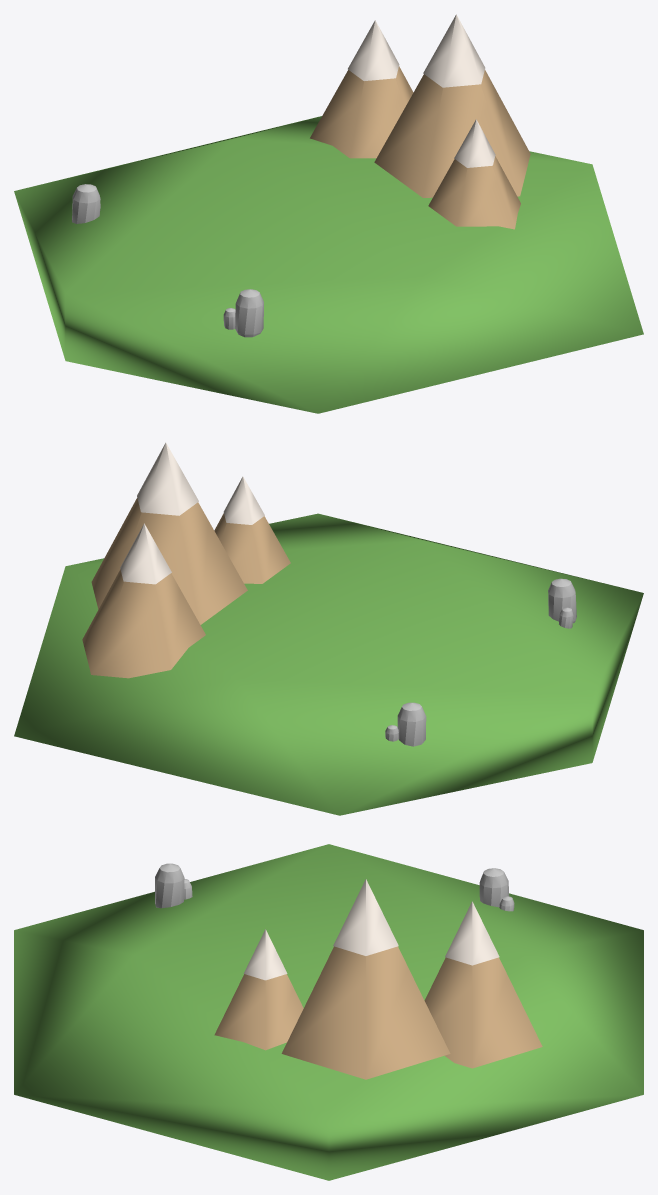
The model's file is low-poly_terrain.glb.
The picture shows the model from 3 angles, top to bottom: view 1: azimuth 30°, elevation 25°; view 2: azimuth 150°, elevation 25°; view 3: azimuth 270°, elevation 25°; orthographic projection. The views are drawn at different scales.
Parts seen in each view (by area): view 1: Object_8, Object_4, Object_7, Object_6, Object_3, Object_2, Object_10, Object_5, Object_9; view 2: Object_8, Object_7, Object_4, Object_6, Object_3, Object_2, Object_9, Object_10, Object_5; view 3: Object_8, Object_4, Object_7, Object_6, Object_3, Object_2, Object_10, Object_5, Object_9.
Part boxes in pixels (bbox=[...]): Object_8: bbox=[14, 116, 643, 413]; Object_4: bbox=[374, 70, 530, 197]; Object_7: bbox=[310, 66, 413, 158]; Object_6: bbox=[428, 156, 520, 229]; Object_3: bbox=[423, 14, 485, 87]; Object_2: bbox=[348, 20, 399, 80]; Object_10: bbox=[223, 289, 263, 337]; Object_5: bbox=[454, 119, 495, 167]; Object_9: bbox=[72, 184, 100, 223]; Object_8: bbox=[14, 513, 643, 815]; Object_7: bbox=[82, 569, 205, 678]; Object_4: bbox=[91, 498, 247, 624]; Object_6: bbox=[214, 513, 290, 583]; Object_3: bbox=[137, 442, 198, 515]; Object_2: bbox=[120, 523, 171, 584]; Object_9: bbox=[385, 702, 426, 746]; Object_10: bbox=[548, 578, 576, 628]; Object_5: bbox=[223, 476, 264, 524]; Object_8: bbox=[14, 844, 643, 1180]; Object_4: bbox=[281, 946, 450, 1079]; Object_7: bbox=[424, 957, 542, 1068]; Object_6: bbox=[214, 974, 303, 1050]; Object_3: bbox=[333, 879, 398, 955]; Object_2: bbox=[445, 901, 499, 965]; Object_10: bbox=[155, 863, 192, 908]; Object_5: bbox=[243, 929, 287, 980]; Object_9: bbox=[479, 868, 514, 911].
Bounding box in the file's own units: 21.61 × 10 × 21.61.
